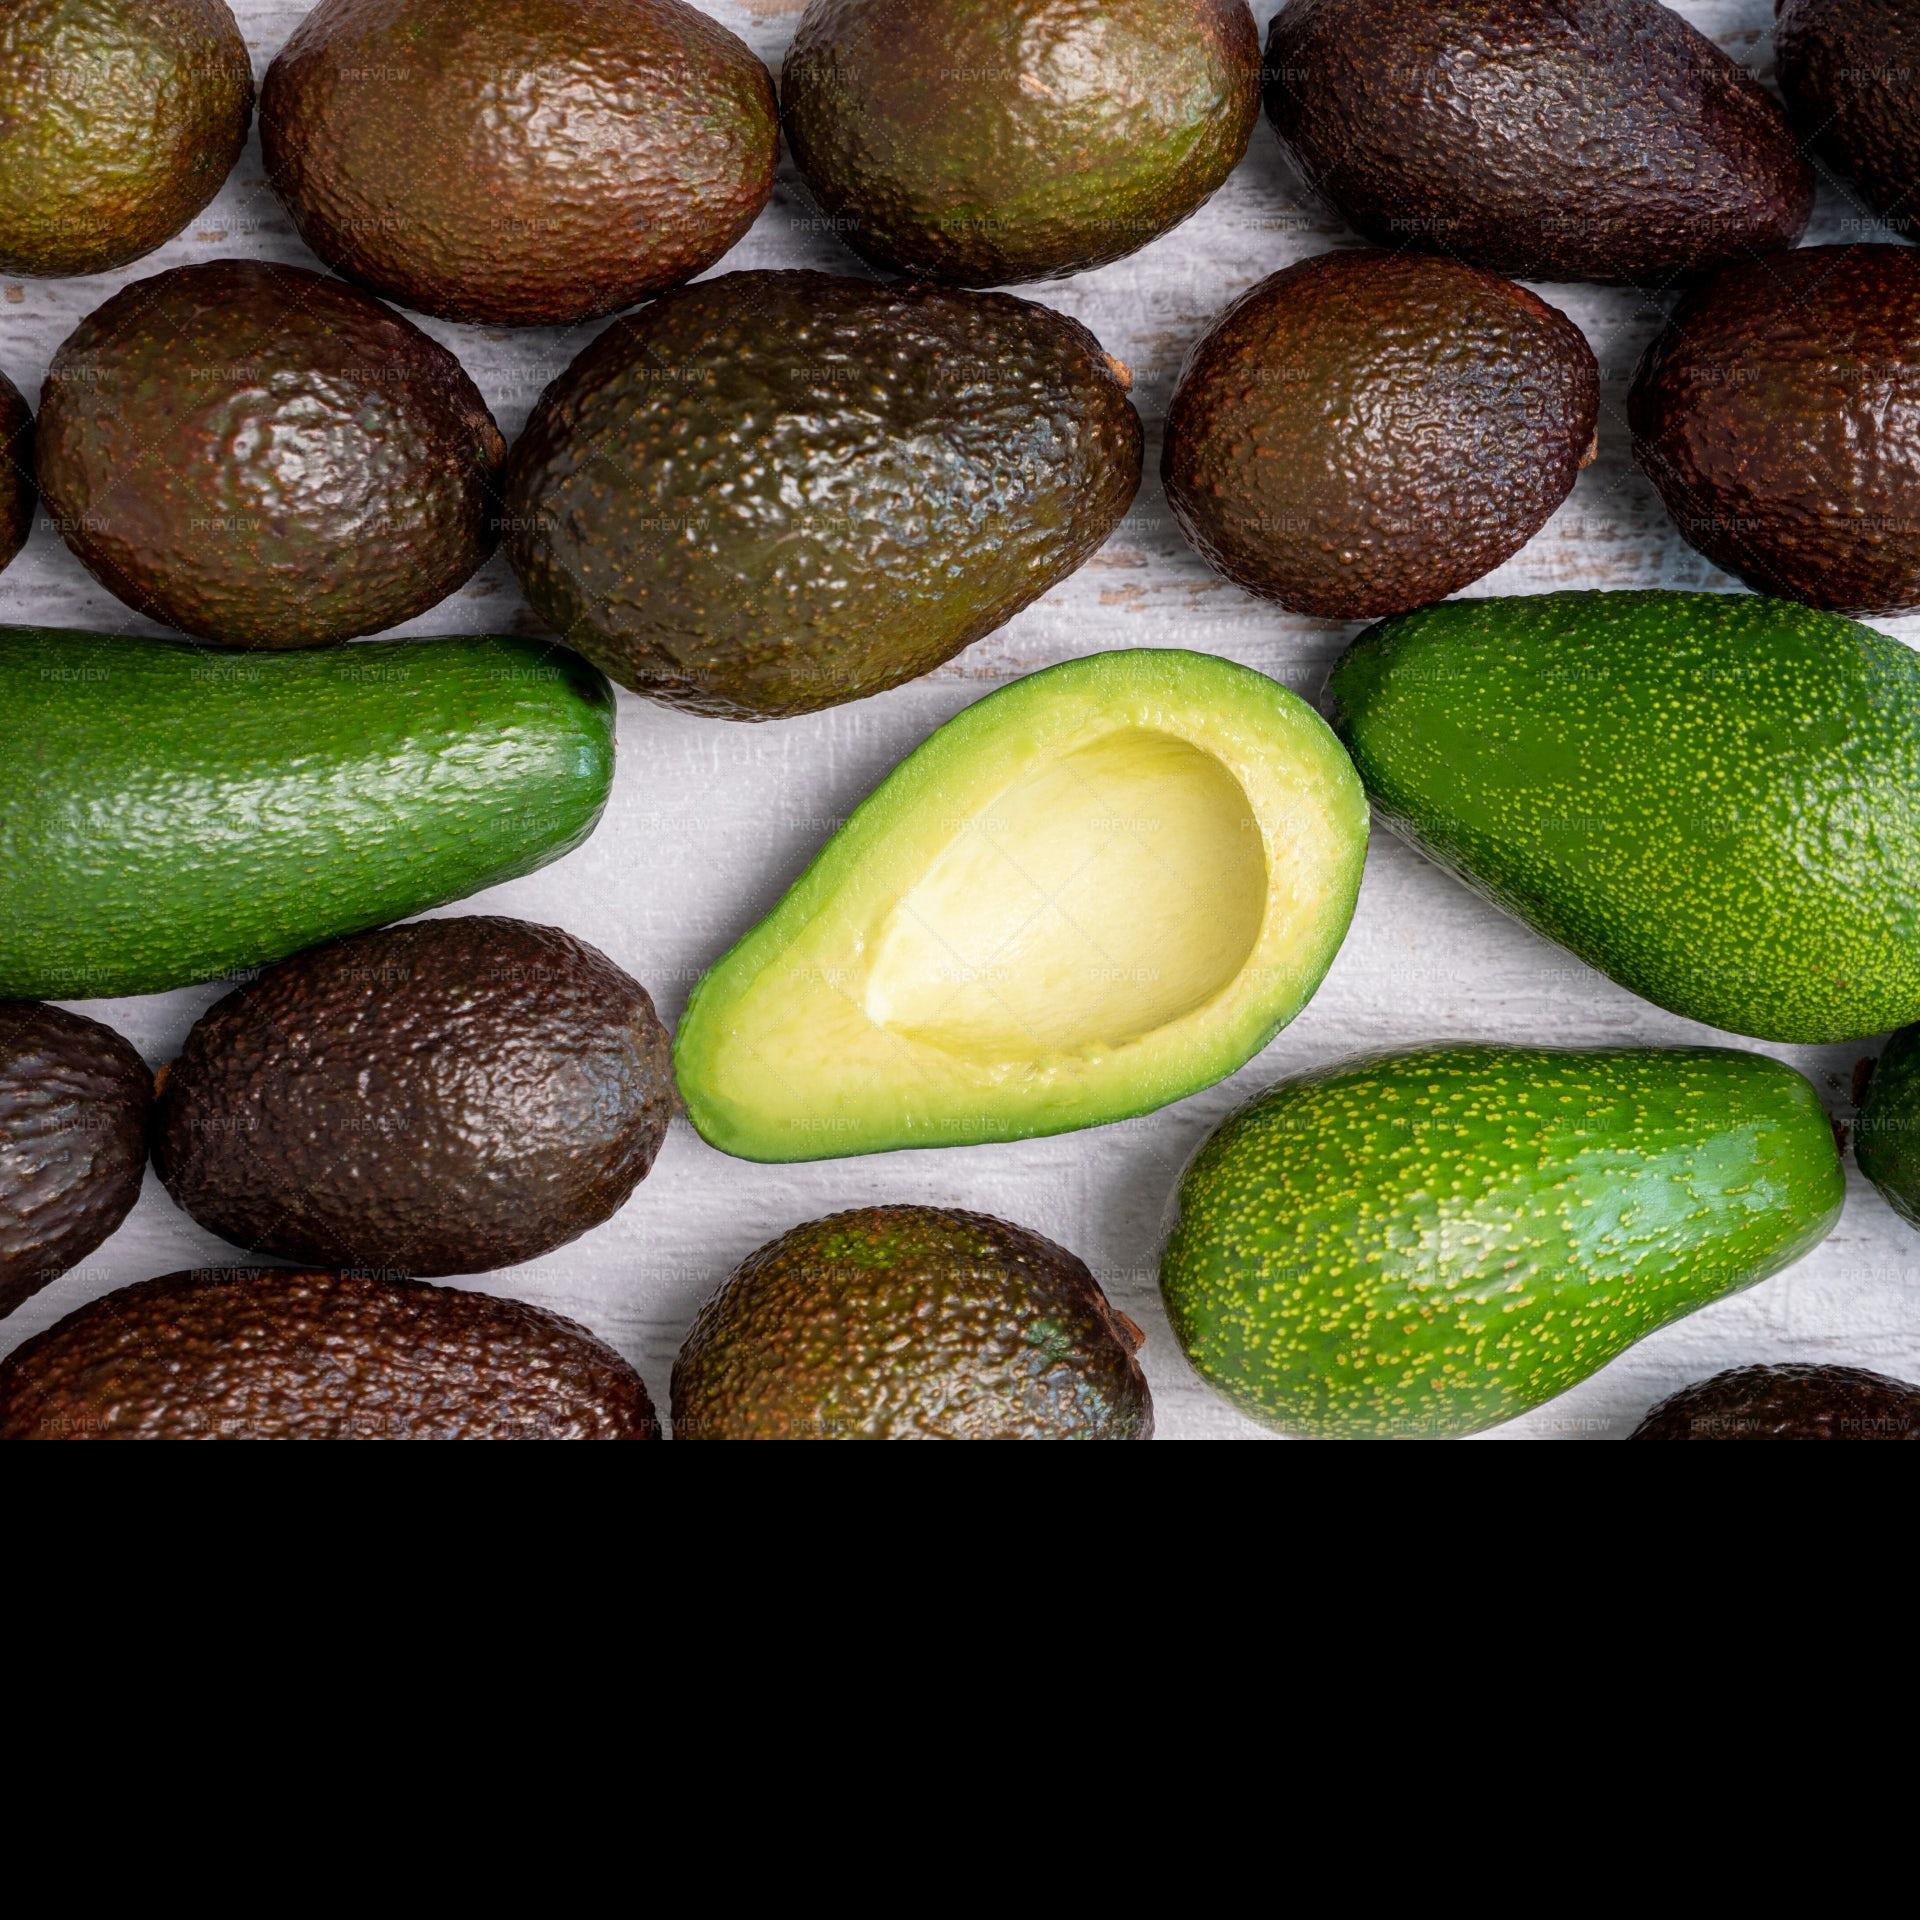almost: (264, 2, 782, 331), (786, 2, 1261, 290), (668, 1204, 1155, 1440), (2, 2, 253, 280)
ripe: (508, 271, 1146, 724), (149, 914, 673, 1278), (39, 260, 512, 647), (1159, 248, 1602, 619), (1262, 2, 1816, 281), (2, 1268, 663, 1440), (1626, 243, 1920, 619)
unripe: (1159, 1039, 1846, 1440), (1315, 591, 1920, 1043), (2, 624, 617, 999)
